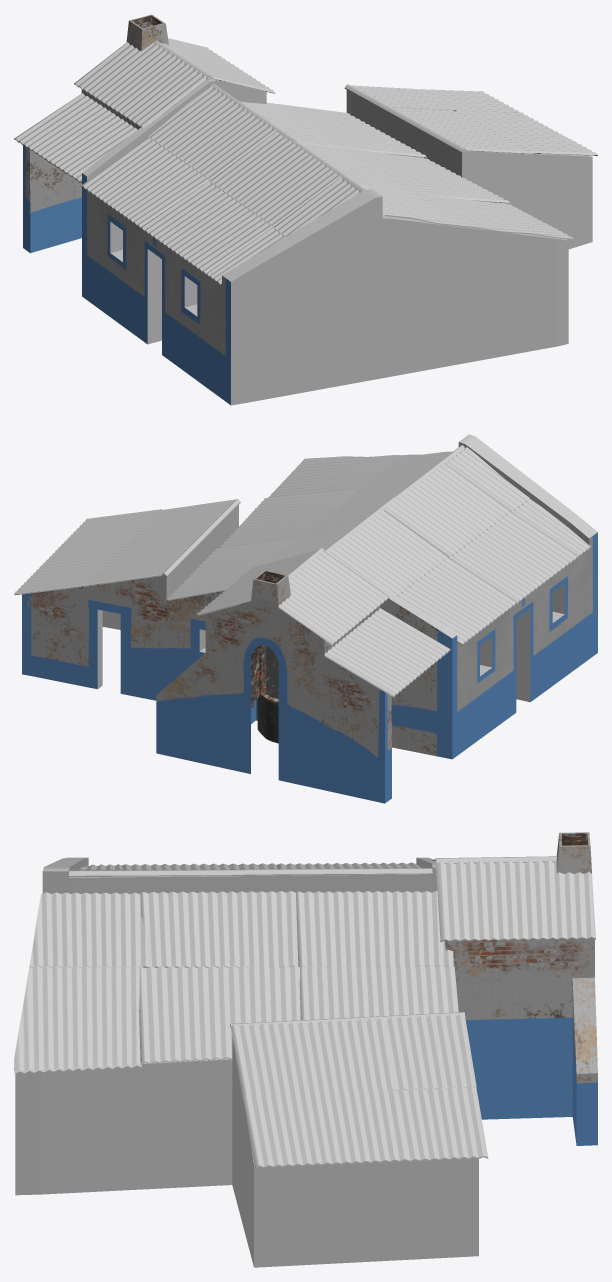
File: HouseComplete.fbx
3 renders of one model, top to bottom at view 1: azimuth 30°, elevation 25°; view 2: azimuth 150°, elevation 25°; view 3: azimuth 270°, elevation 25°, orthographic. The views are drawn at different scales.
Parts seen in each view (by area): view 1: OutWall, Tiles6, Tiles9, Tiles5, Tiles7, Tiles8, Tiles, OvenOutWall, Tiles19, Tiles21, Tiles20, Tiles12 (+13 smaller); view 2: OutWall, OvenOutWall, Tiles6, Tiles5, Tiles, Tiles9, Tiles7, Tiles8, Tiles19, Oven, Tiles21, Tiles12 (+12 smaller); view 3: OutWall, BackWall, Tiles19, Tiles21, Tiles18, Tiles16, Tiles12, Tiles15, Tiles22, Tiles17, Tiles20, InsideWalls (+10 smaller).
Boxes of the visible parts, x1,y1,x2,y2 form: OutWall: (82,77,592,405); Tiles6: (210,131,341,226); Tiles9: (74,42,208,127); Tiles5: (140,180,272,274); Tiles7: (148,84,276,180); Tiles8: (81,136,209,227); Tiles: (14,93,137,182); OvenOutWall: (23,90,89,253); Tiles19: (346,148,510,203); Tiles21: (416,194,574,239); Tiles20: (278,104,426,158); Tiles12: (454,110,597,155); OutWall: (22,434,597,759); OvenOutWall: (156,599,391,803); Tiles6: (384,463,510,557); Tiles5: (449,511,578,603); Tiles: (324,608,451,697); Tiles9: (278,550,389,645); Tiles7: (326,509,448,595); Tiles8: (395,557,517,645); Tiles19: (220,489,359,547); Oven: (251,570,290,743); Tiles21: (268,455,402,497); Tiles12: (40,509,161,566); OutWall: (15,857,478,1267); BackWall: (444,938,574,1119); Tiles19: (139,965,300,1064); Tiles21: (14,966,141,1073); Tiles18: (435,859,595,942); Tiles16: (140,891,298,967); Tiles12: (243,1088,406,1168); Tiles15: (296,891,453,967); Tiles22: (231,1018,394,1099); Tiles17: (29,892,150,967); Tiles20: (299,965,458,1020); InsideWalls: (59,874,433,893).
Bounding box in the file's own units: 1462 × 620 × 1352.
